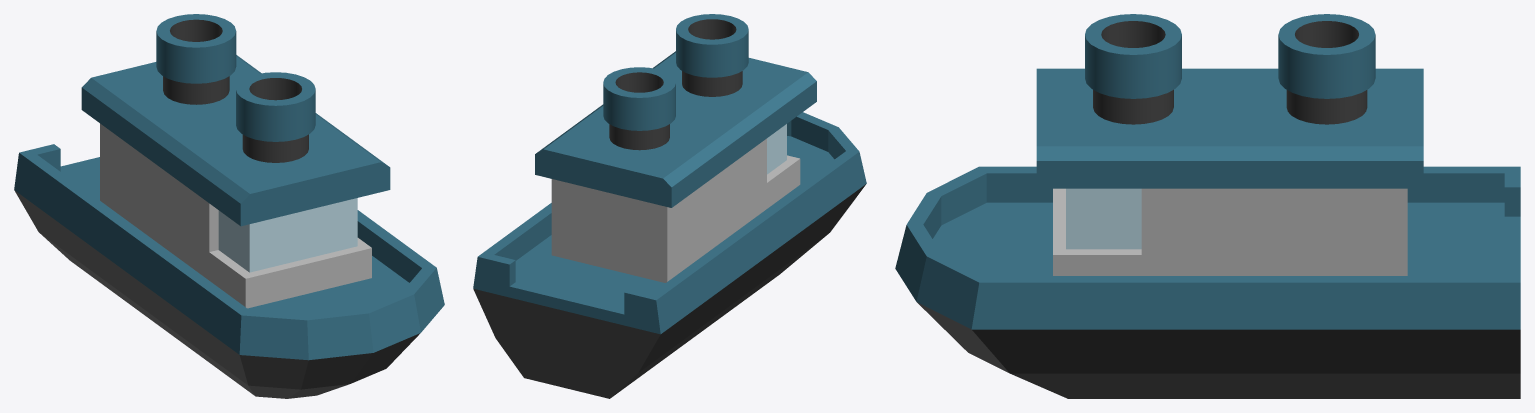
File: watercraftPack_023.obj
3 renders of one model, left to right at view 1: azimuth 30°, elevation 25°; view 2: azimuth 150°, elevation 25°; view 3: azimuth 270°, elevation 25°, orthographic. The views are drawn at different scales.
Visible parts, largest first — view 1: Mesh1 Group1 Model; view 2: Mesh1 Group1 Model; view 3: Mesh1 Group1 Model.
Boxes of the visible parts, x1=… form: Mesh1 Group1 Model: x1=14, y1=14, x2=444, y2=398; Mesh1 Group1 Model: x1=473, y1=14, x2=866, y2=398; Mesh1 Group1 Model: x1=895, y1=14, x2=1520, y2=398.
Size of the model in its own units: 2.59 by 3.33 by 5.61.
